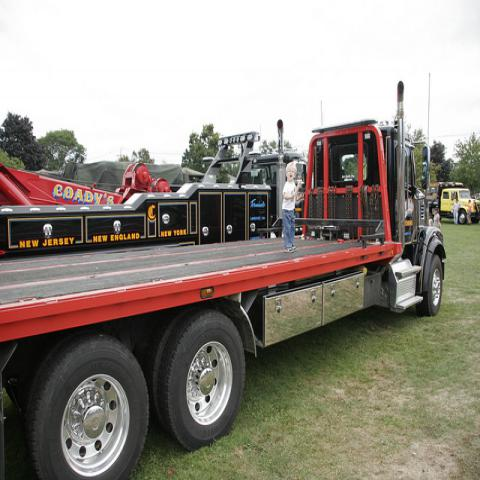truck: (0, 79, 446, 479), (0, 120, 307, 257), (428, 182, 480, 224)
